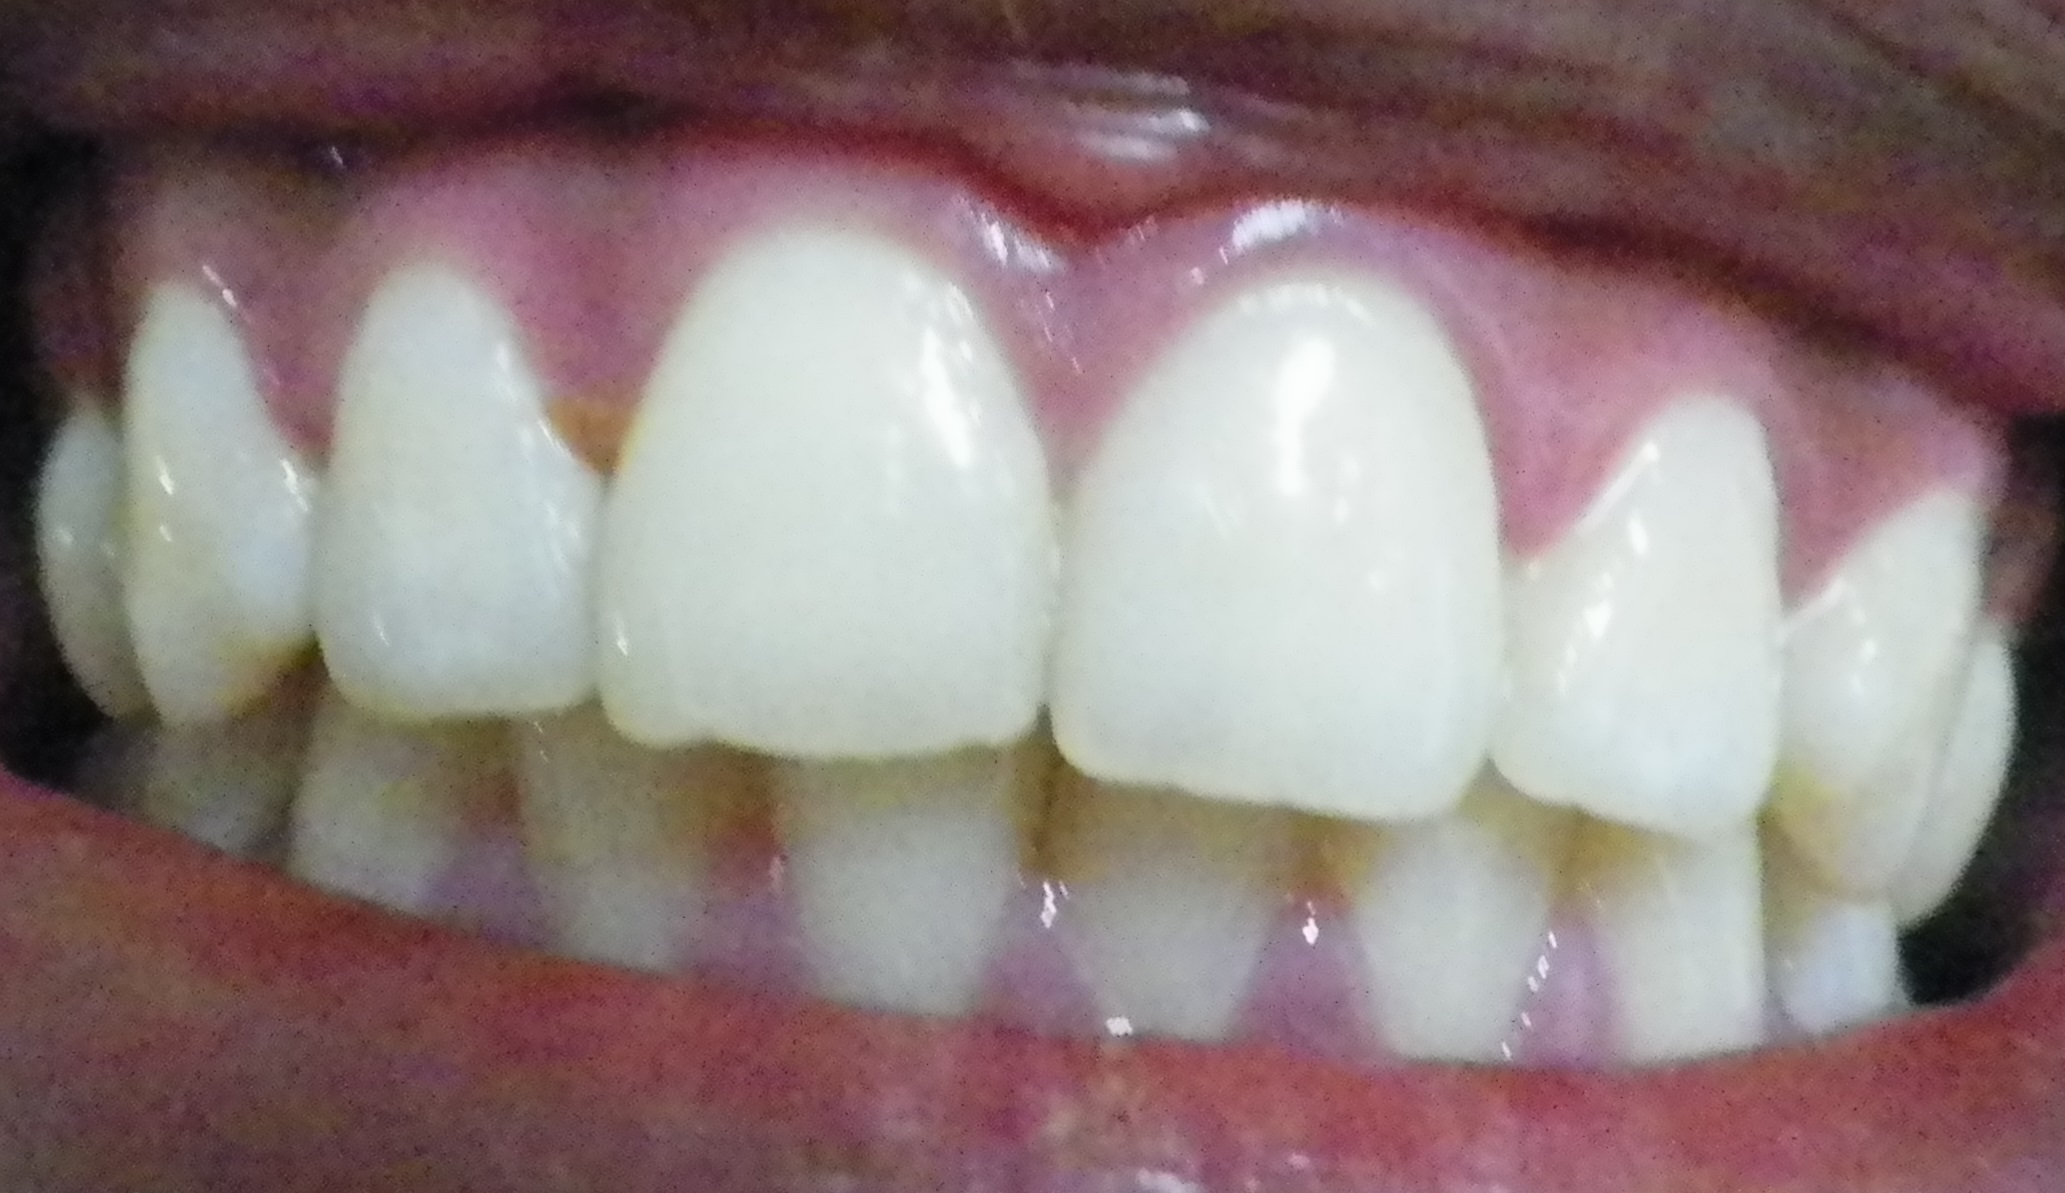boca: (40, 250, 2003, 1052)
